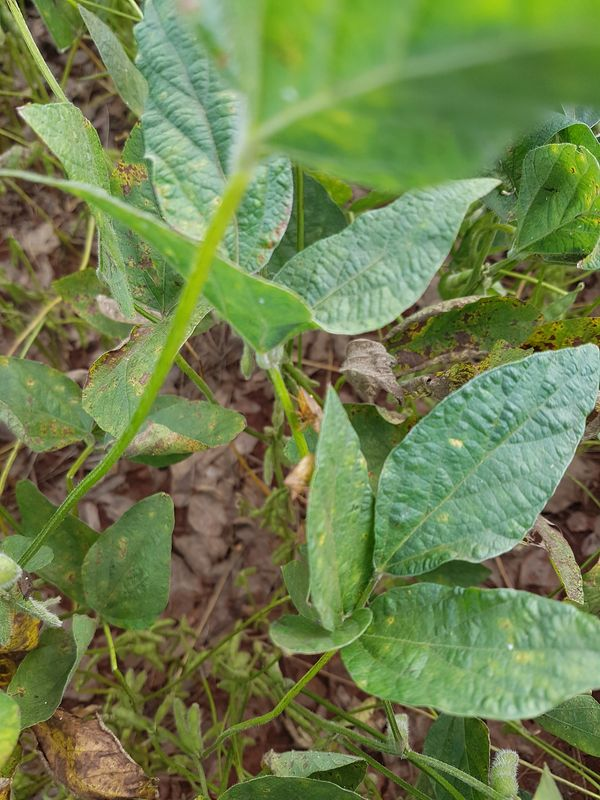Euschistus_heros_adulto: (280, 379, 332, 438), (276, 447, 325, 508)
